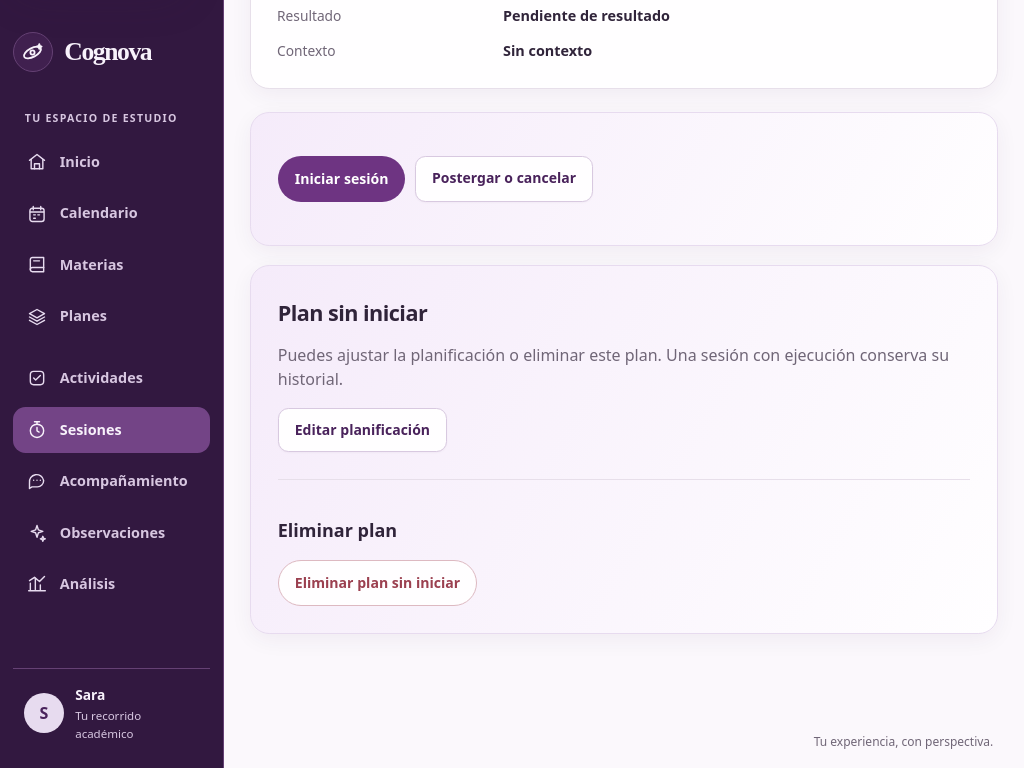
safe study plan deletion › deletes only an unstarted plan after a serious confirmation
(page scrolled)
Click the button "Eliminar plan sin iniciar" at (378, 583), box [278,560,477,606]
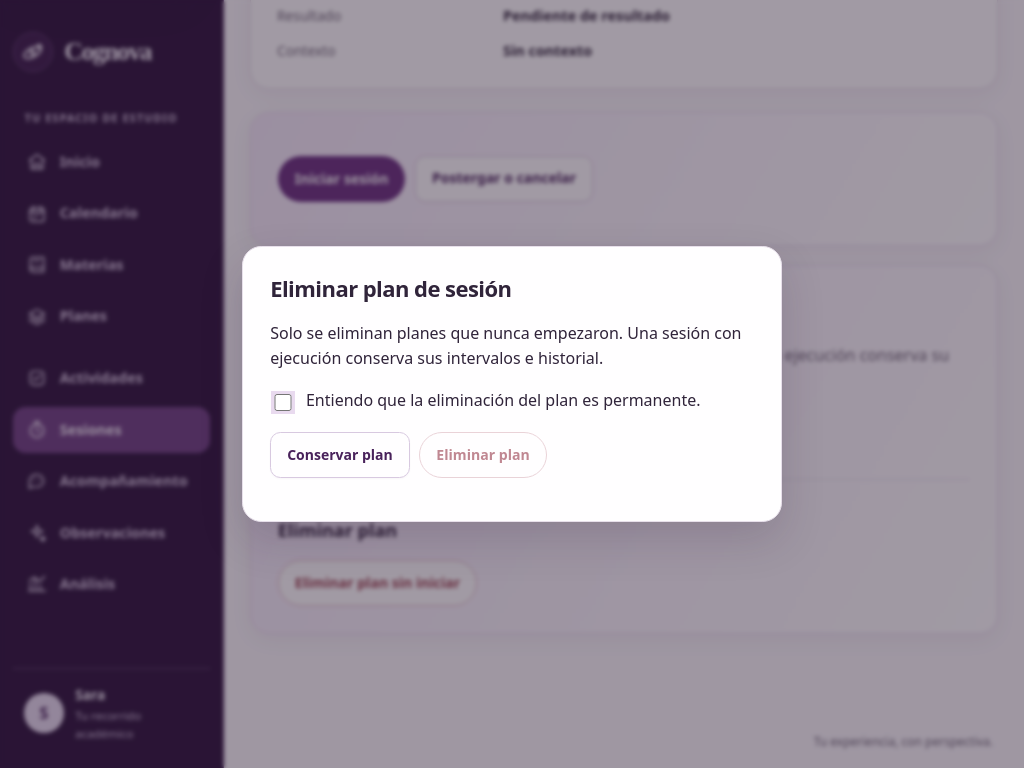
Expected: the button "Eliminar plan" is disabled, [419,432,547,478]
Click the checkbox labelled "Entiendo que la eliminación del plan es permanente." at (283, 402), box [274,394,292,411]
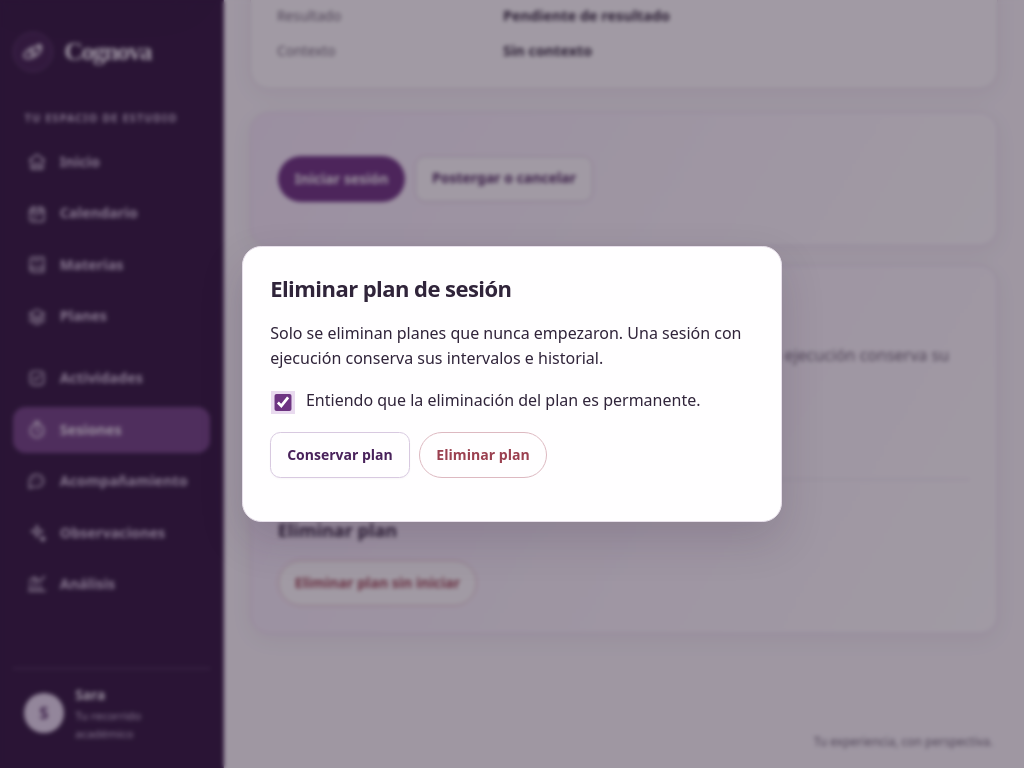
Click the button "Eliminar plan" at (483, 455), box [419,432,547,478]
(page scrolled)
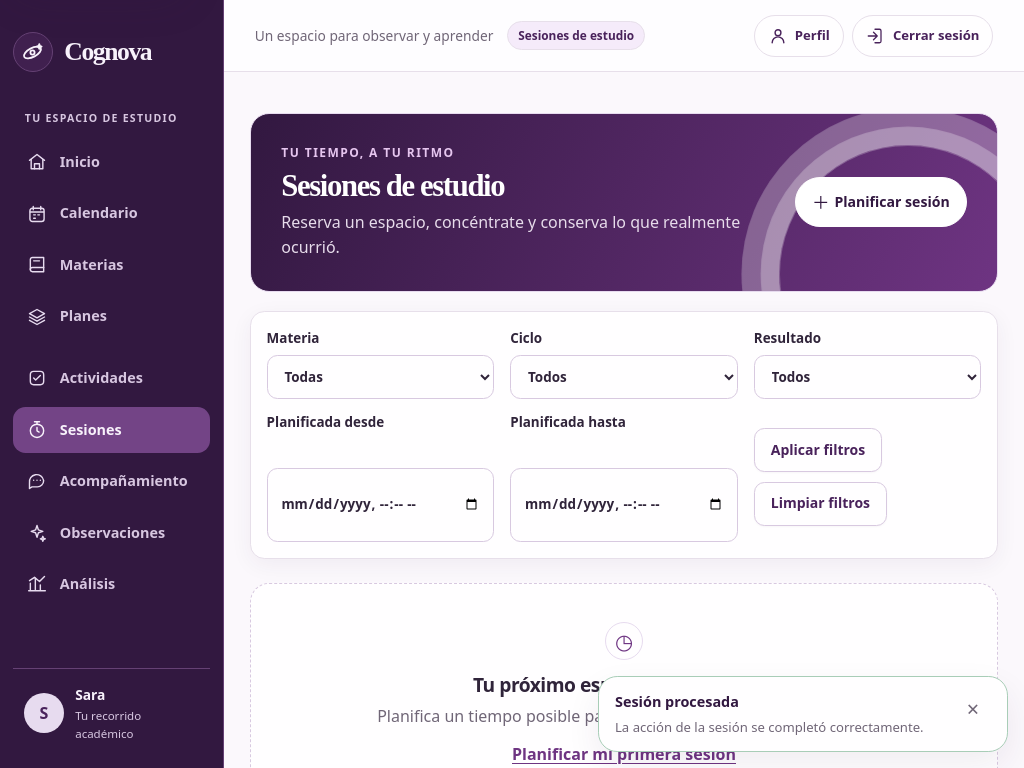
Expected: the heading "Tu próximo espacio empieza aquí" is shown, [473,671,775,698]
